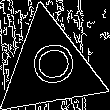O_W: (23, 42, 77, 93)
